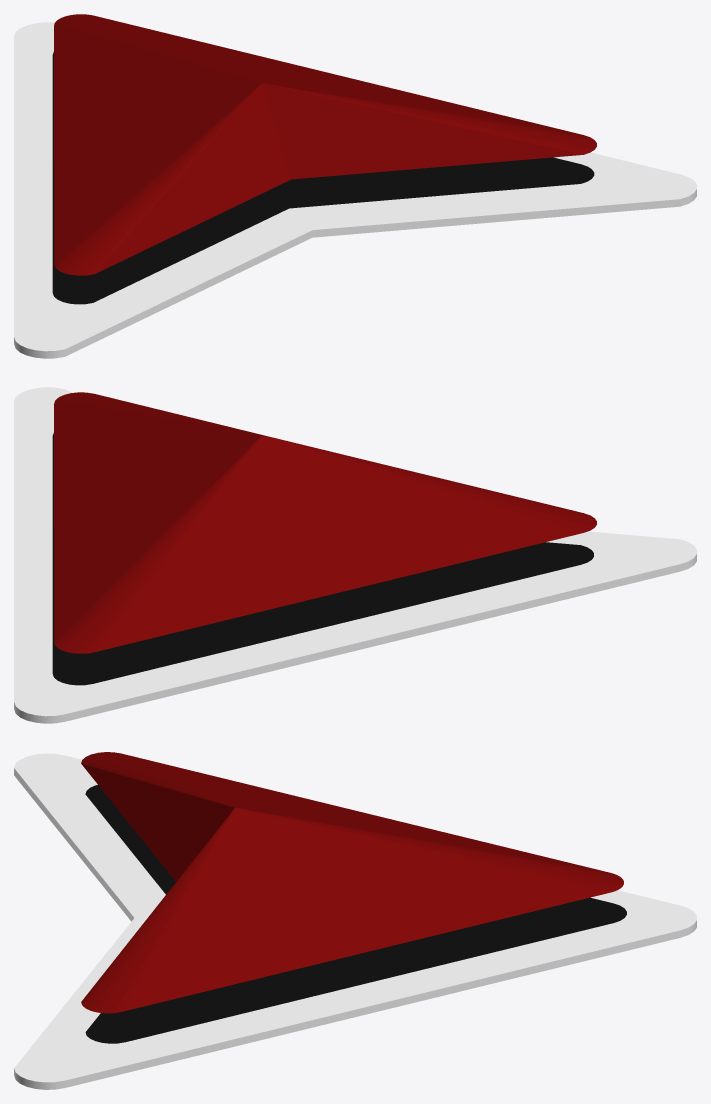
The model's file is 3D Nav CCP icon.FBX.
The picture shows the model from 3 angles, top to bottom: view 1: azimuth 30°, elevation 25°; view 2: azimuth 150°, elevation 25°; view 3: azimuth 270°, elevation 25°; orthographic projection.
Visible parts, largest first — view 1: Arrow head; view 2: Arrow head; view 3: Arrow head.
Part boxes in pixels (bbox=[...]): Arrow head: bbox=[14, 14, 696, 358]; Arrow head: bbox=[14, 387, 696, 723]; Arrow head: bbox=[14, 752, 696, 1089].
Bounding box in the file's own units: 3.77 × 0.6281 × 3.31.
